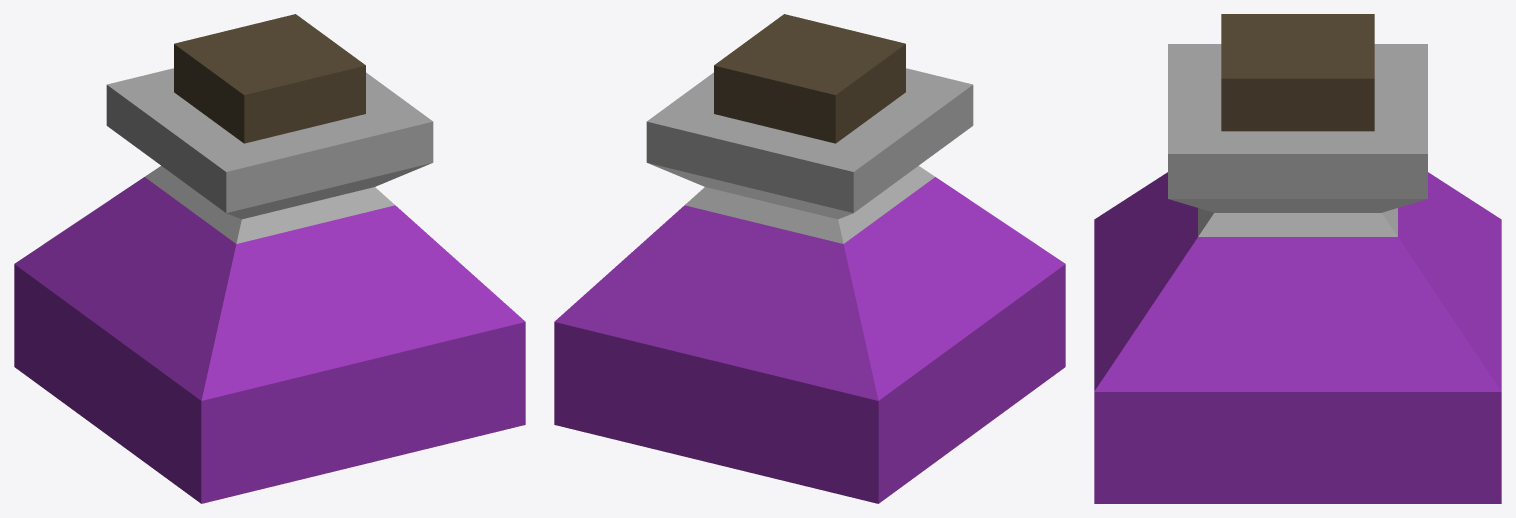
File: Anger Elixir1.fbx
The picture shows the model from 3 angles, left to right: view 1: azimuth 30°, elevation 25°; view 2: azimuth 150°, elevation 25°; view 3: azimuth 270°, elevation 25°; orthographic projection. The views are drawn at different scales.
Visible parts, largest first — view 1: pCube1; view 2: pCube1; view 3: pCube1.
Part boxes in pixels (x1,y1,x2,y2): pCube1: (14, 14, 525, 503); pCube1: (554, 14, 1065, 503); pCube1: (1094, 14, 1501, 503).
Bounding box in the file's own units: 42.36 × 42.59 × 42.36.
